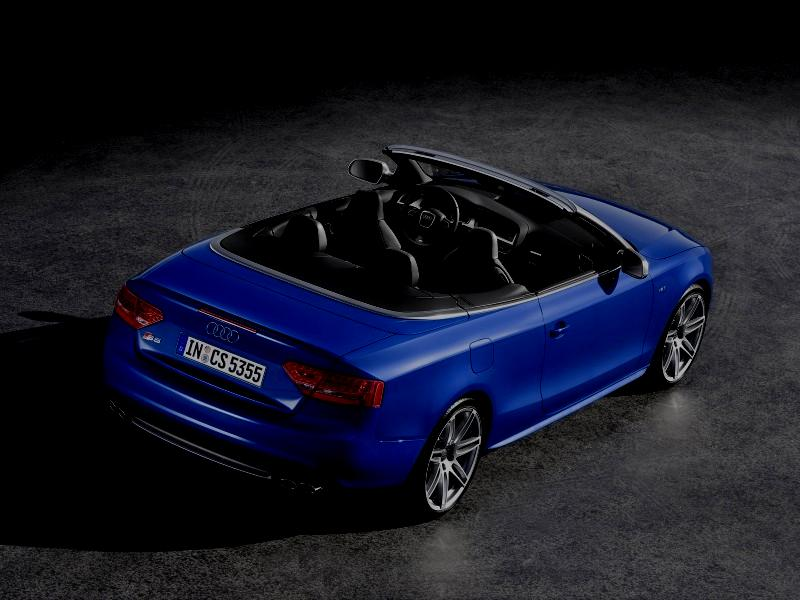Audi: (202, 317, 248, 347)
